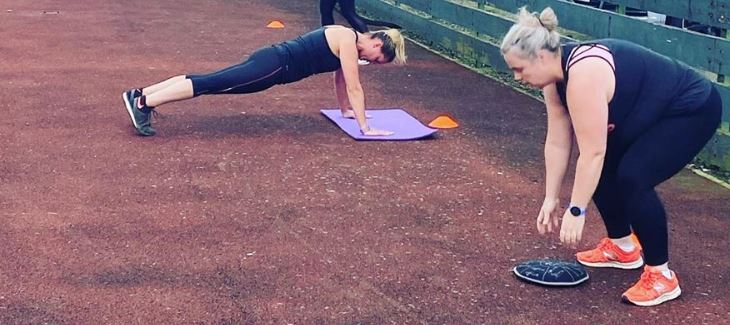Good: (118, 9, 725, 304)
